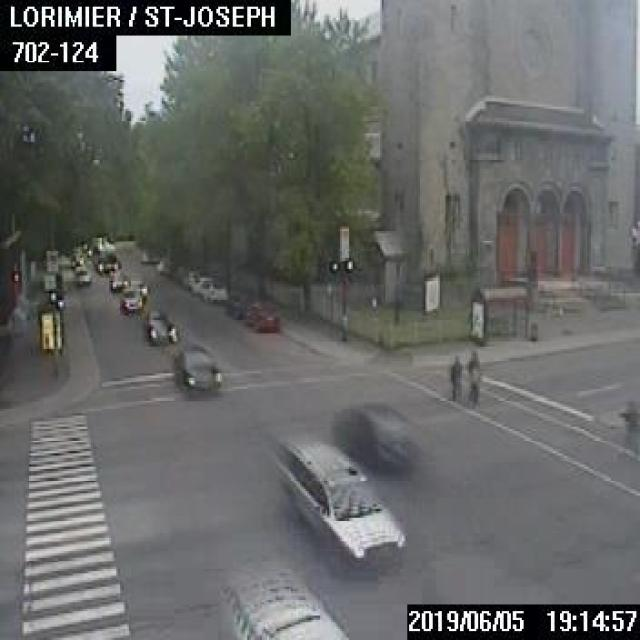bus: (90, 240, 120, 273)
pedestrian: (616, 398, 638, 449), (449, 354, 463, 399), (466, 366, 480, 406), (464, 348, 478, 371)
vehicle: (274, 435, 404, 569), (222, 572, 348, 638), (328, 404, 419, 474), (172, 342, 220, 393), (144, 310, 176, 343), (243, 300, 278, 330), (118, 288, 140, 312), (202, 281, 226, 301), (225, 295, 246, 317), (188, 275, 210, 294), (127, 278, 146, 300), (180, 270, 200, 288), (108, 270, 126, 289), (73, 265, 89, 283), (140, 248, 159, 263), (155, 256, 168, 272), (69, 252, 82, 265), (174, 265, 184, 281)
